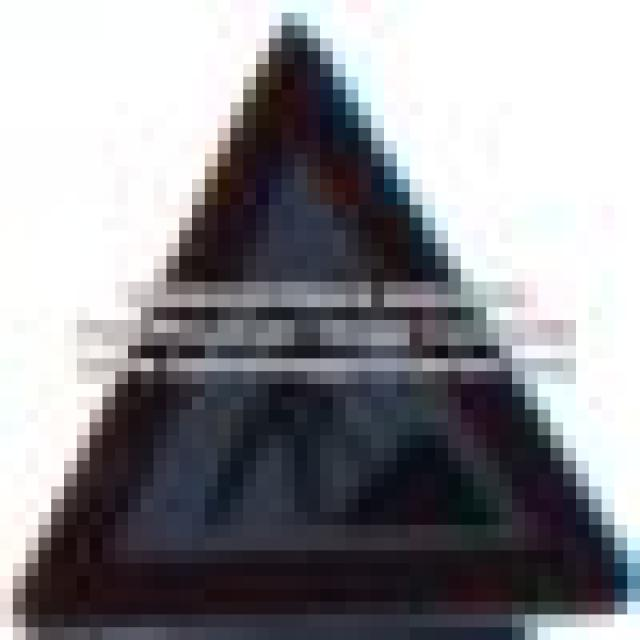road_work: (26, 0, 627, 589)
